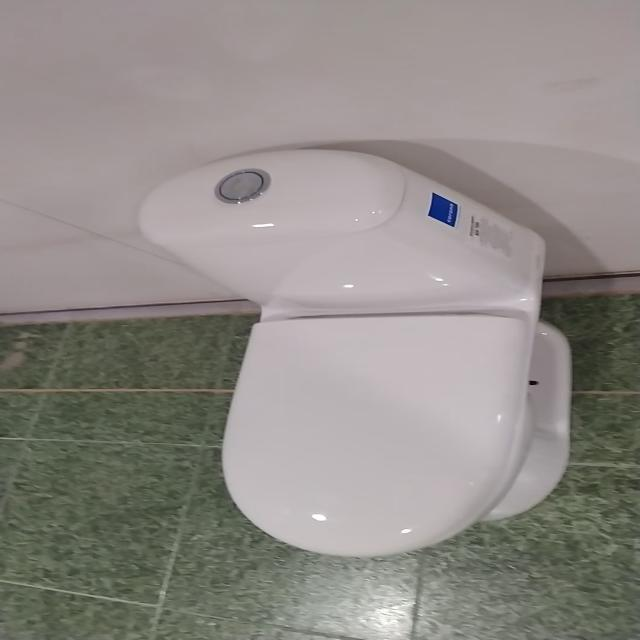toilet: (133, 140, 587, 558)
